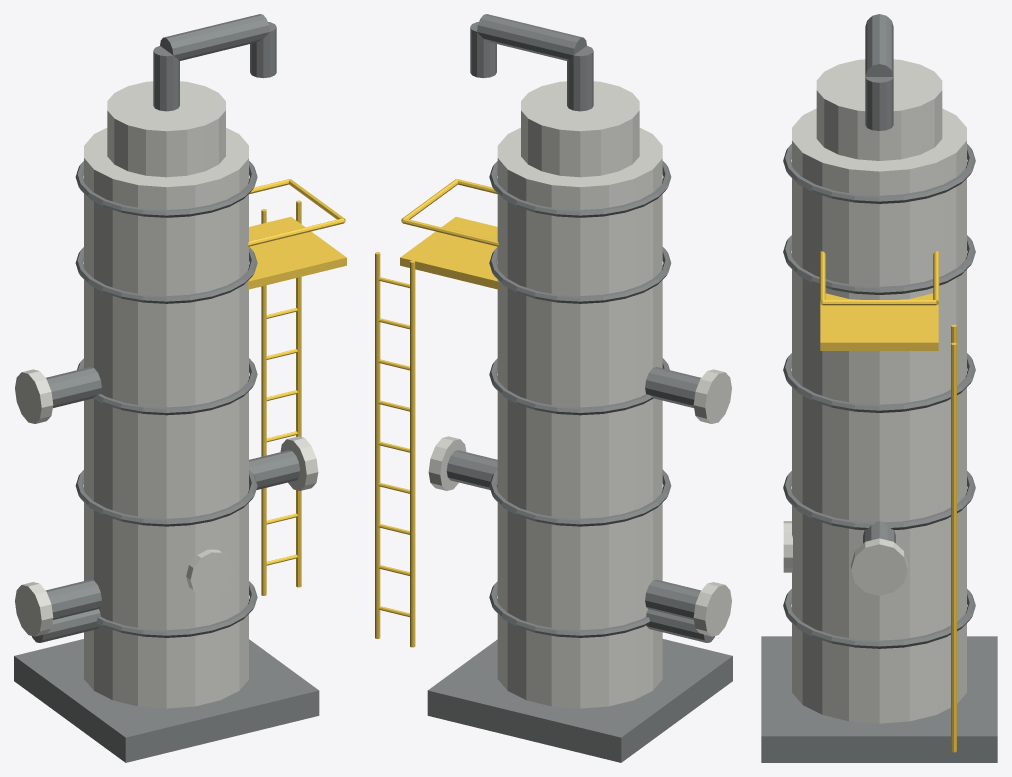
The model's file is deabsorber column.fbx.
3 renders of one model, left to right at view 1: azimuth 30°, elevation 25°; view 2: azimuth 150°, elevation 25°; view 3: azimuth 270°, elevation 25°, orthographic. The views are drawn at different scales.
Visible parts, largest first — view 1: Desorber_main_shell, Desorber_concrete_base, Desorber_top_dome, Desorber_platform, Desorber_top_pipe_horizontal, Desorber_flange_ring_2.1, Desorber_flange_ring_5.15, Desorber_flange_ring_4.3, Desorber_ladder_left, Desorber_inspection_port, Desorber_middle_flange, Desorber_bottom_flange (+11 smaller); view 2: Desorber_main_shell, Desorber_concrete_base, Desorber_top_dome, Desorber_platform, Desorber_top_pipe_horizontal, Desorber_ladder_left, Desorber_ladder_right, Desorber_flange_ring_2.1, Desorber_flange_ring_5.15, Desorber_flange_ring_4.3, Desorber_middle_flange, Desorber_bottom_flange (+9 smaller); view 3: Desorber_main_shell, Desorber_concrete_base, Desorber_top_dome, Desorber_platform, Desorber_sideout_flange, Desorber_ladder_right, Desorber_flange_ring_5.15, Desorber_flange_ring_1.0, Desorber_flange_ring_3.2, Desorber_flange_ring_4.3, Desorber_flange_ring_2.1, Desorber_top_pipe_horizontal (+4 smaller).
Boxes of the visible parts, x1=… form: Desorber_main_shell: x1=84, y1=127, x2=248, y2=708; Desorber_concrete_base: x1=14, y1=639, x2=319, y2=762; Desorber_top_dome: x1=107, y1=81, x2=225, y2=177; Desorber_platform: x1=248, y1=217, x2=346, y2=289; Desorber_top_pipe_horizontal: x1=160, y1=14, x2=269, y2=60; Desorber_flange_ring_2.1: x1=75, y1=469, x2=257, y2=526; Desorber_flange_ring_5.15: x1=75, y1=161, x2=257, y2=217; Desorber_flange_ring_4.3: x1=75, y1=247, x2=257, y2=303; Desorber_ladder_left: x1=261, y1=209, x2=266, y2=595; Desorber_inspection_port: x1=186, y1=549, x2=232, y2=596; Desorber_middle_flange: x1=15, y1=369, x2=53, y2=423; Desorber_bottom_flange: x1=15, y1=582, x2=53, y2=636; Desorber_main_shell: x1=497, y1=127, x2=662, y2=708; Desorber_concrete_base: x1=427, y1=639, x2=732, y2=762; Desorber_top_dome: x1=521, y1=81, x2=639, y2=177; Desorber_platform: x1=400, y1=217, x2=498, y2=289; Desorber_top_pipe_horizontal: x1=477, y1=14, x2=586, y2=60; Desorber_ladder_left: x1=410, y1=260, x2=415, y2=647; Desorber_ladder_right: x1=375, y1=252, x2=380, y2=638; Desorber_flange_ring_2.1: x1=489, y1=469, x2=671, y2=526; Desorber_flange_ring_5.15: x1=489, y1=161, x2=671, y2=217; Desorber_flange_ring_4.3: x1=489, y1=247, x2=671, y2=303; Desorber_middle_flange: x1=693, y1=369, x2=731, y2=423; Desorber_bottom_flange: x1=693, y1=582, x2=731, y2=636; Desorber_main_shell: x1=792, y1=108, x2=966, y2=723; Desorber_concrete_base: x1=761, y1=636, x2=997, y2=762; Desorber_top_dome: x1=816, y1=59, x2=942, y2=160; Desorber_platform: x1=820, y1=293, x2=938, y2=350; Desorber_sideout_flange: x1=851, y1=538, x2=907, y2=595; Desorber_ladder_right: x1=951, y1=342, x2=956, y2=752; Desorber_flange_ring_5.15: x1=783, y1=144, x2=975, y2=203; Desorber_flange_ring_1.0: x1=783, y1=589, x2=975, y2=648; Desorber_flange_ring_3.2: x1=783, y1=353, x2=975, y2=412; Desorber_flange_ring_4.3: x1=783, y1=235, x2=975, y2=294; Desorber_flange_ring_2.1: x1=783, y1=471, x2=975, y2=529; Desorber_top_pipe_horizontal: x1=865, y1=14, x2=893, y2=76.
Bounding box in the file's own units: 318 × 652 × 200.
